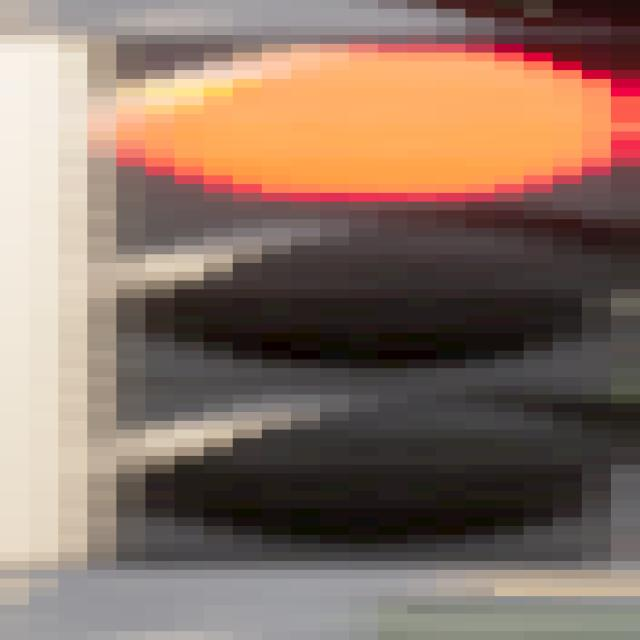red_light: (35, 42, 640, 571)
